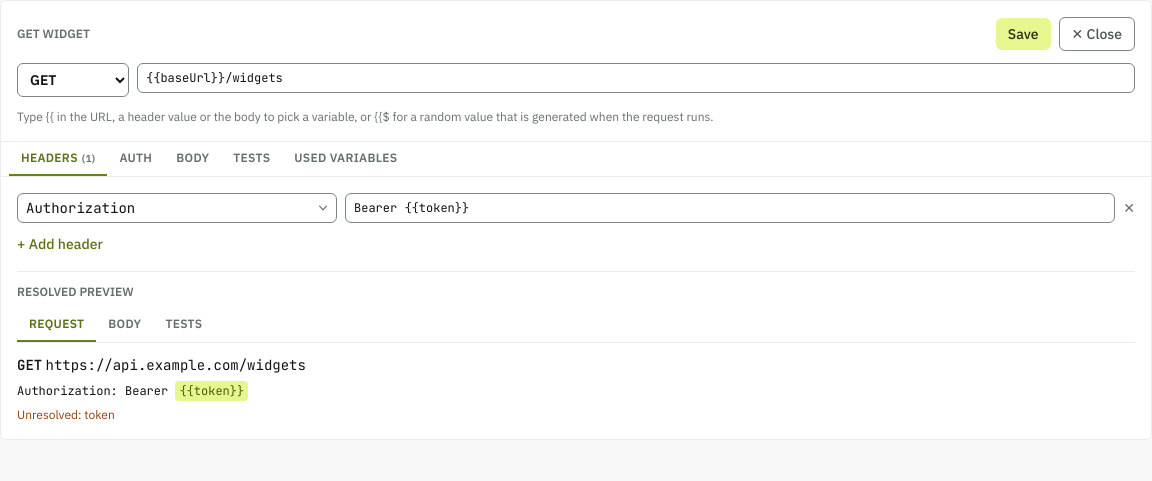
Test: RequestEditorPanel — effective auth and used variables (FR-002a, FR-002b) › says when no auth applies
Click the tab "Auth": (136, 159) [107, 142, 164, 176]
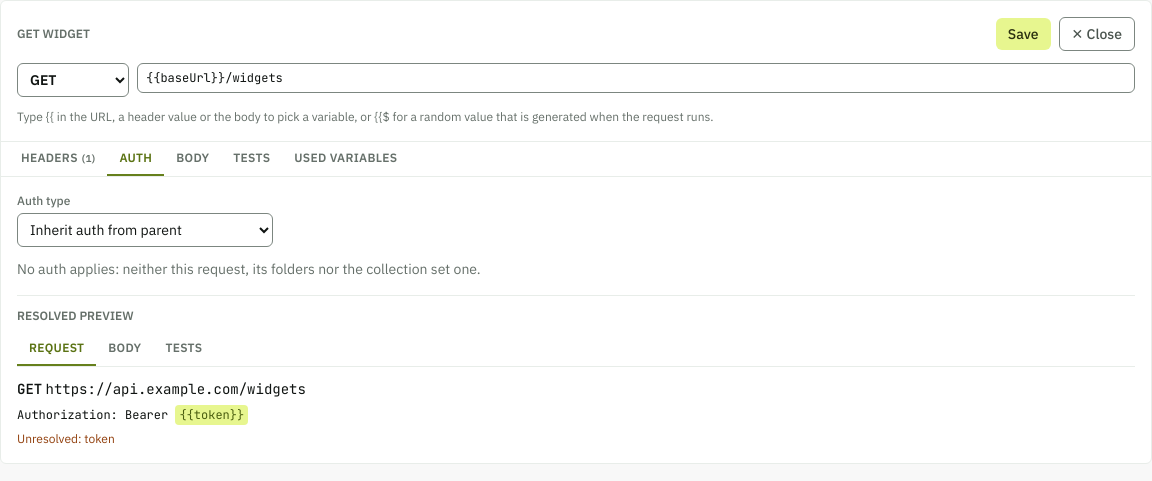
Check: the text "No auth applies" is shown, box [17, 260, 481, 278]
